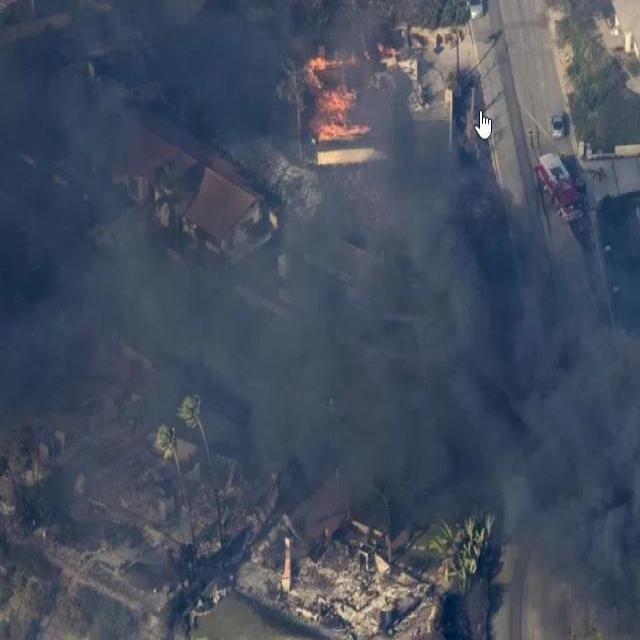Fire: (301, 41, 375, 158)
Smoke: (306, 160, 638, 568), (7, 0, 279, 465)
